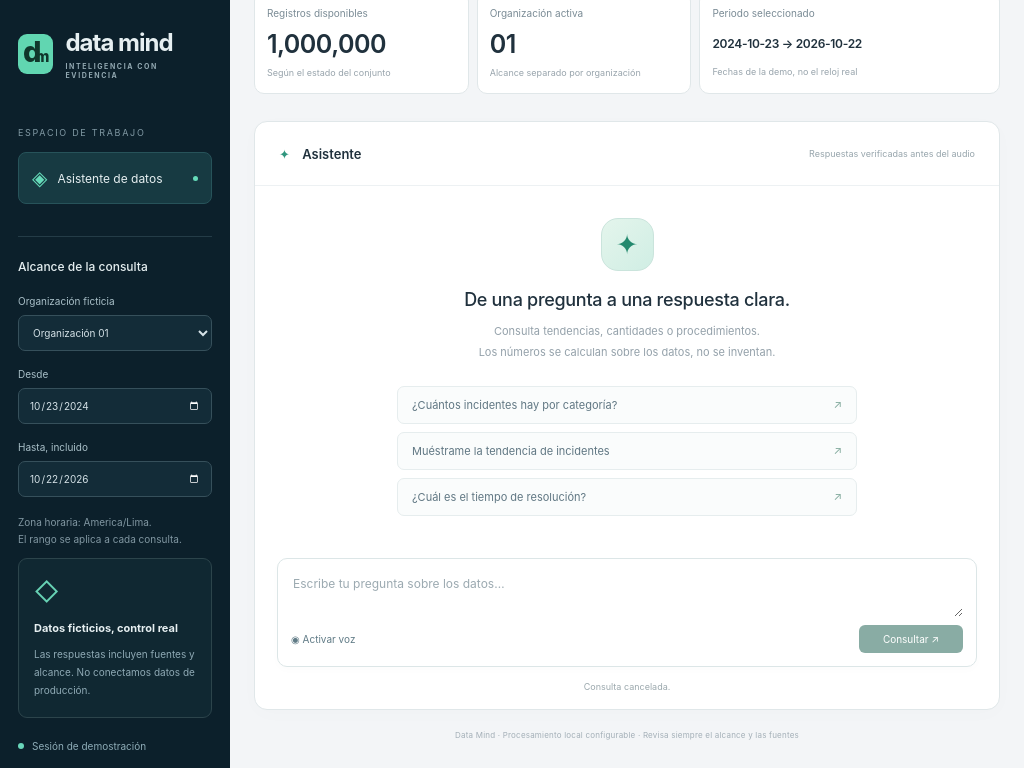
Spanish conversational client › resumes wake listening after an empty transcription
This screenshot has width=1024, height=768.
(page scrolled)
Expected: the text "1,000,000" is shown, [267, 29, 386, 59]
Step 1. Click the button "◉ Activar voz" → (329, 639), box [291, 625, 366, 653]
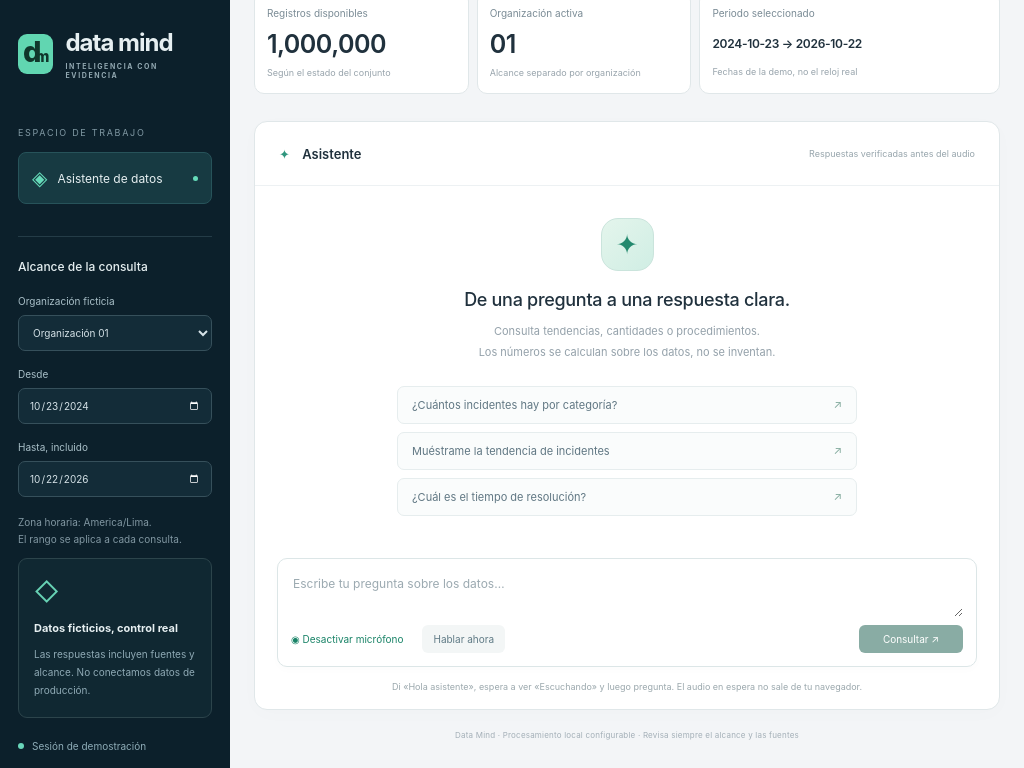
Result: the button "◉ Desactivar micrófono" is shown at [291, 625, 414, 653]
